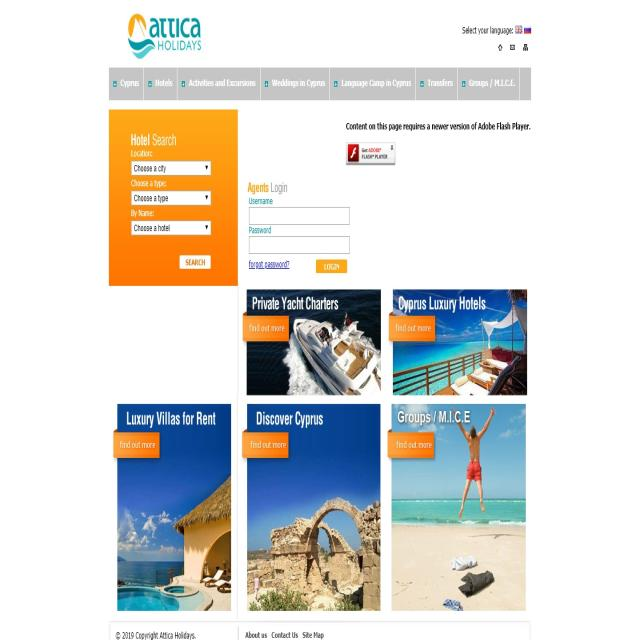button: (178, 72, 260, 95), (332, 72, 415, 94), (260, 72, 328, 95), (457, 74, 520, 98), (386, 430, 434, 460), (114, 431, 158, 456), (244, 432, 288, 457), (390, 318, 435, 342), (244, 316, 288, 339), (416, 74, 457, 95), (111, 70, 144, 96), (146, 70, 176, 95), (316, 259, 347, 273), (181, 256, 210, 270), (516, 20, 524, 40), (524, 24, 534, 37)
field: (251, 235, 350, 255), (250, 207, 349, 226), (132, 160, 210, 176), (132, 192, 213, 207), (133, 222, 210, 236)
heading: (131, 131, 177, 147), (247, 179, 290, 196)
image: (391, 406, 526, 610), (247, 403, 380, 610), (118, 403, 232, 612), (392, 289, 526, 397), (246, 288, 380, 394), (120, 10, 203, 62)
label: (461, 20, 514, 38), (131, 177, 166, 190), (247, 194, 278, 206), (247, 223, 274, 235), (130, 209, 155, 219), (130, 149, 152, 159)
link: (248, 259, 291, 271)
text: (346, 120, 530, 136)
